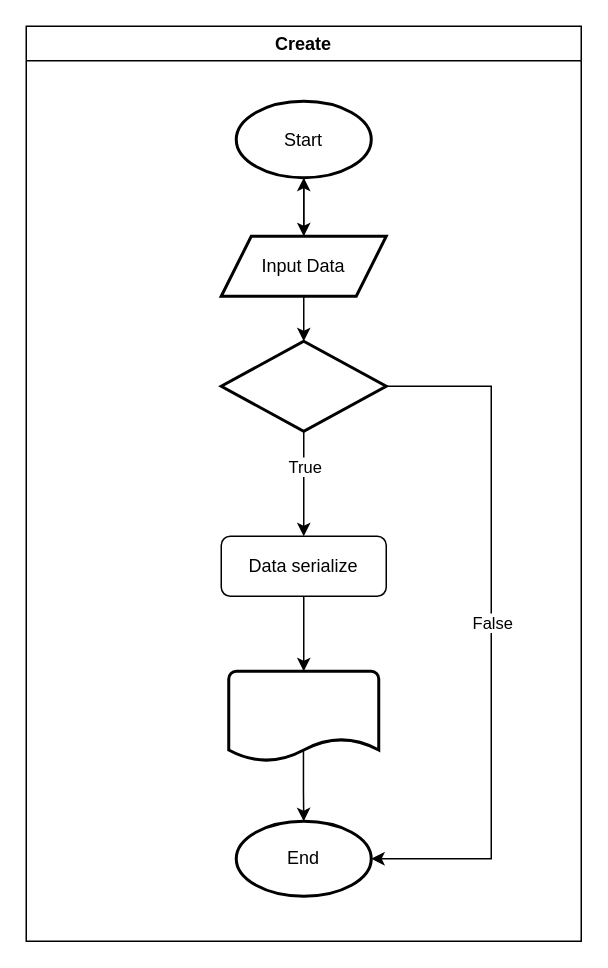
The diagram is 608 pixels wide and 968 high, and some of its shapes have lost their labels. The box of each missing label's shape, as (x1, y1, x2, y2) in pixels:
Append Data to File: (226, 669, 380, 762)
Isvalid Data?: (219, 339, 387, 432)
